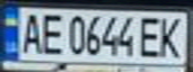0: (63, 11, 87, 55)
4: (115, 12, 139, 57), (100, 12, 121, 56)
6: (84, 12, 103, 56)
A: (15, 9, 45, 55)
E: (36, 10, 66, 55), (136, 14, 163, 58)
K: (157, 14, 187, 58)
